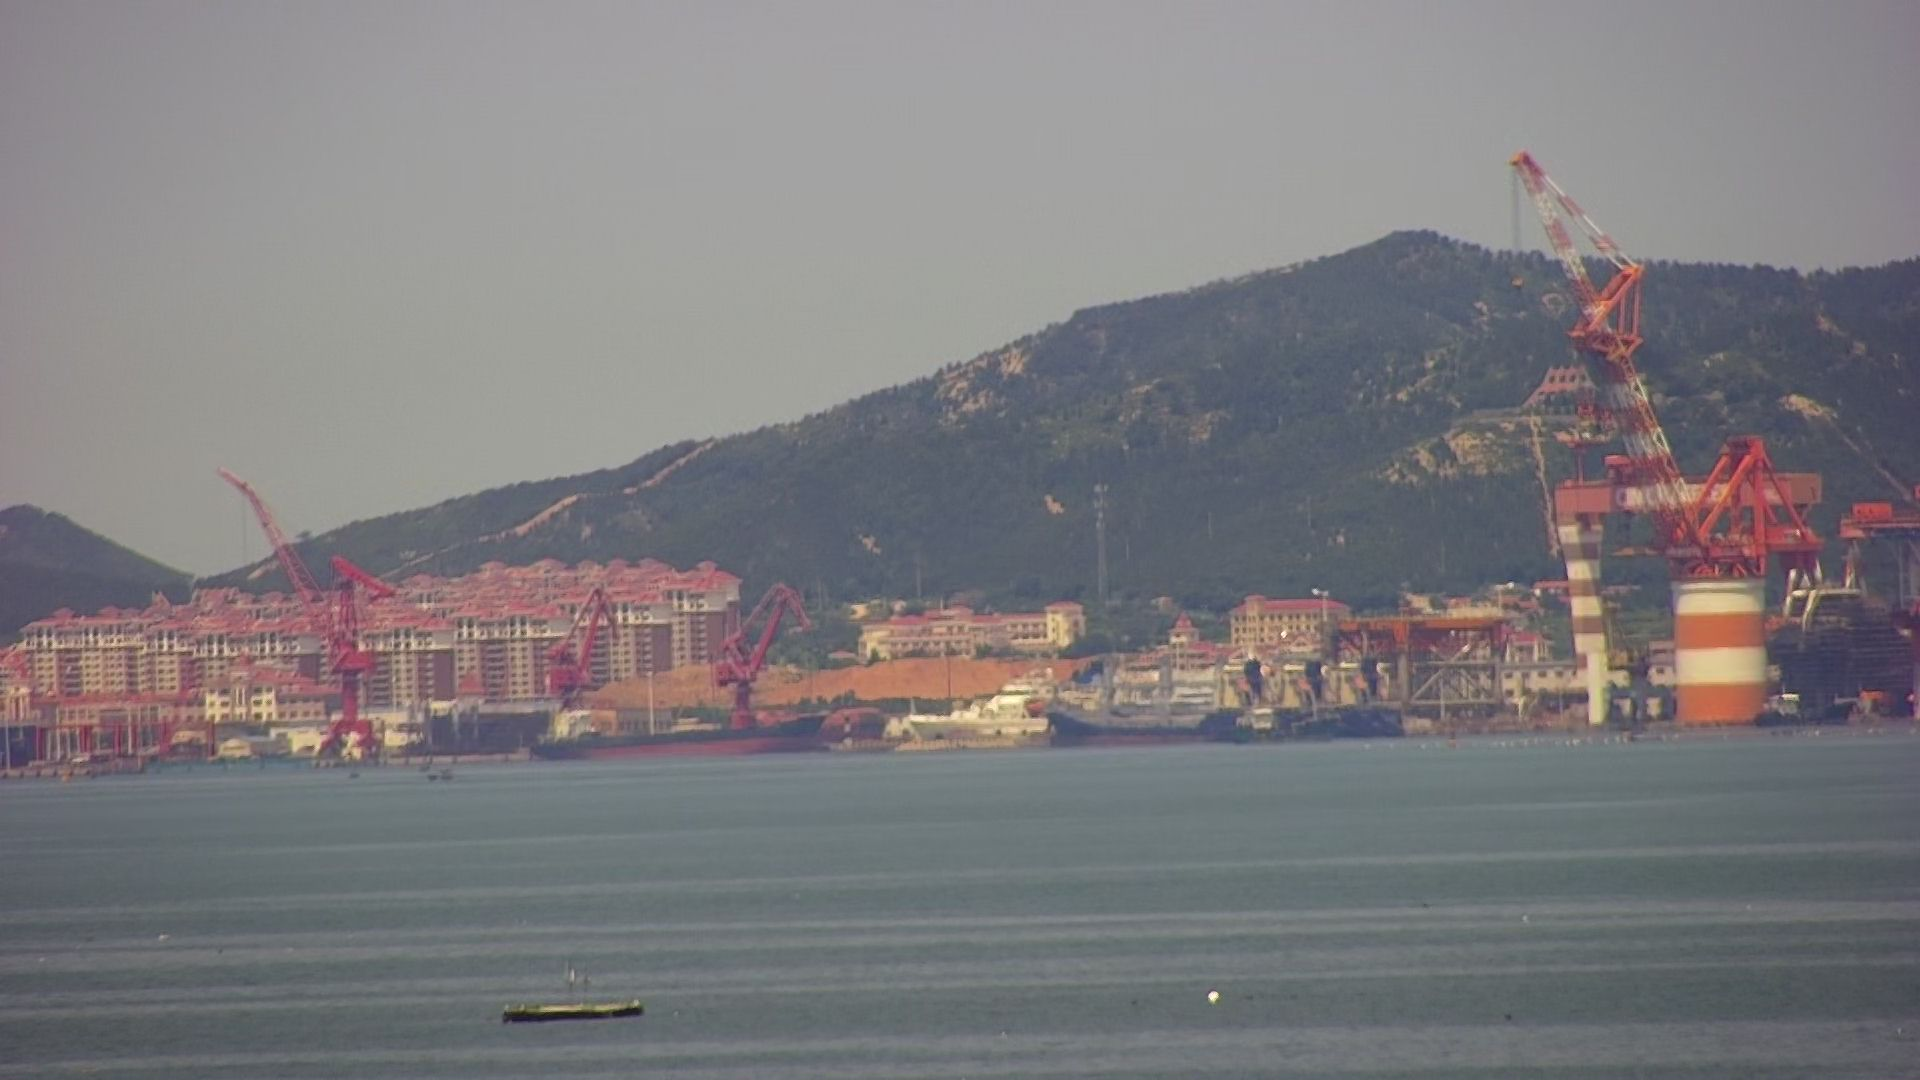boat: (496, 963, 644, 1025)
